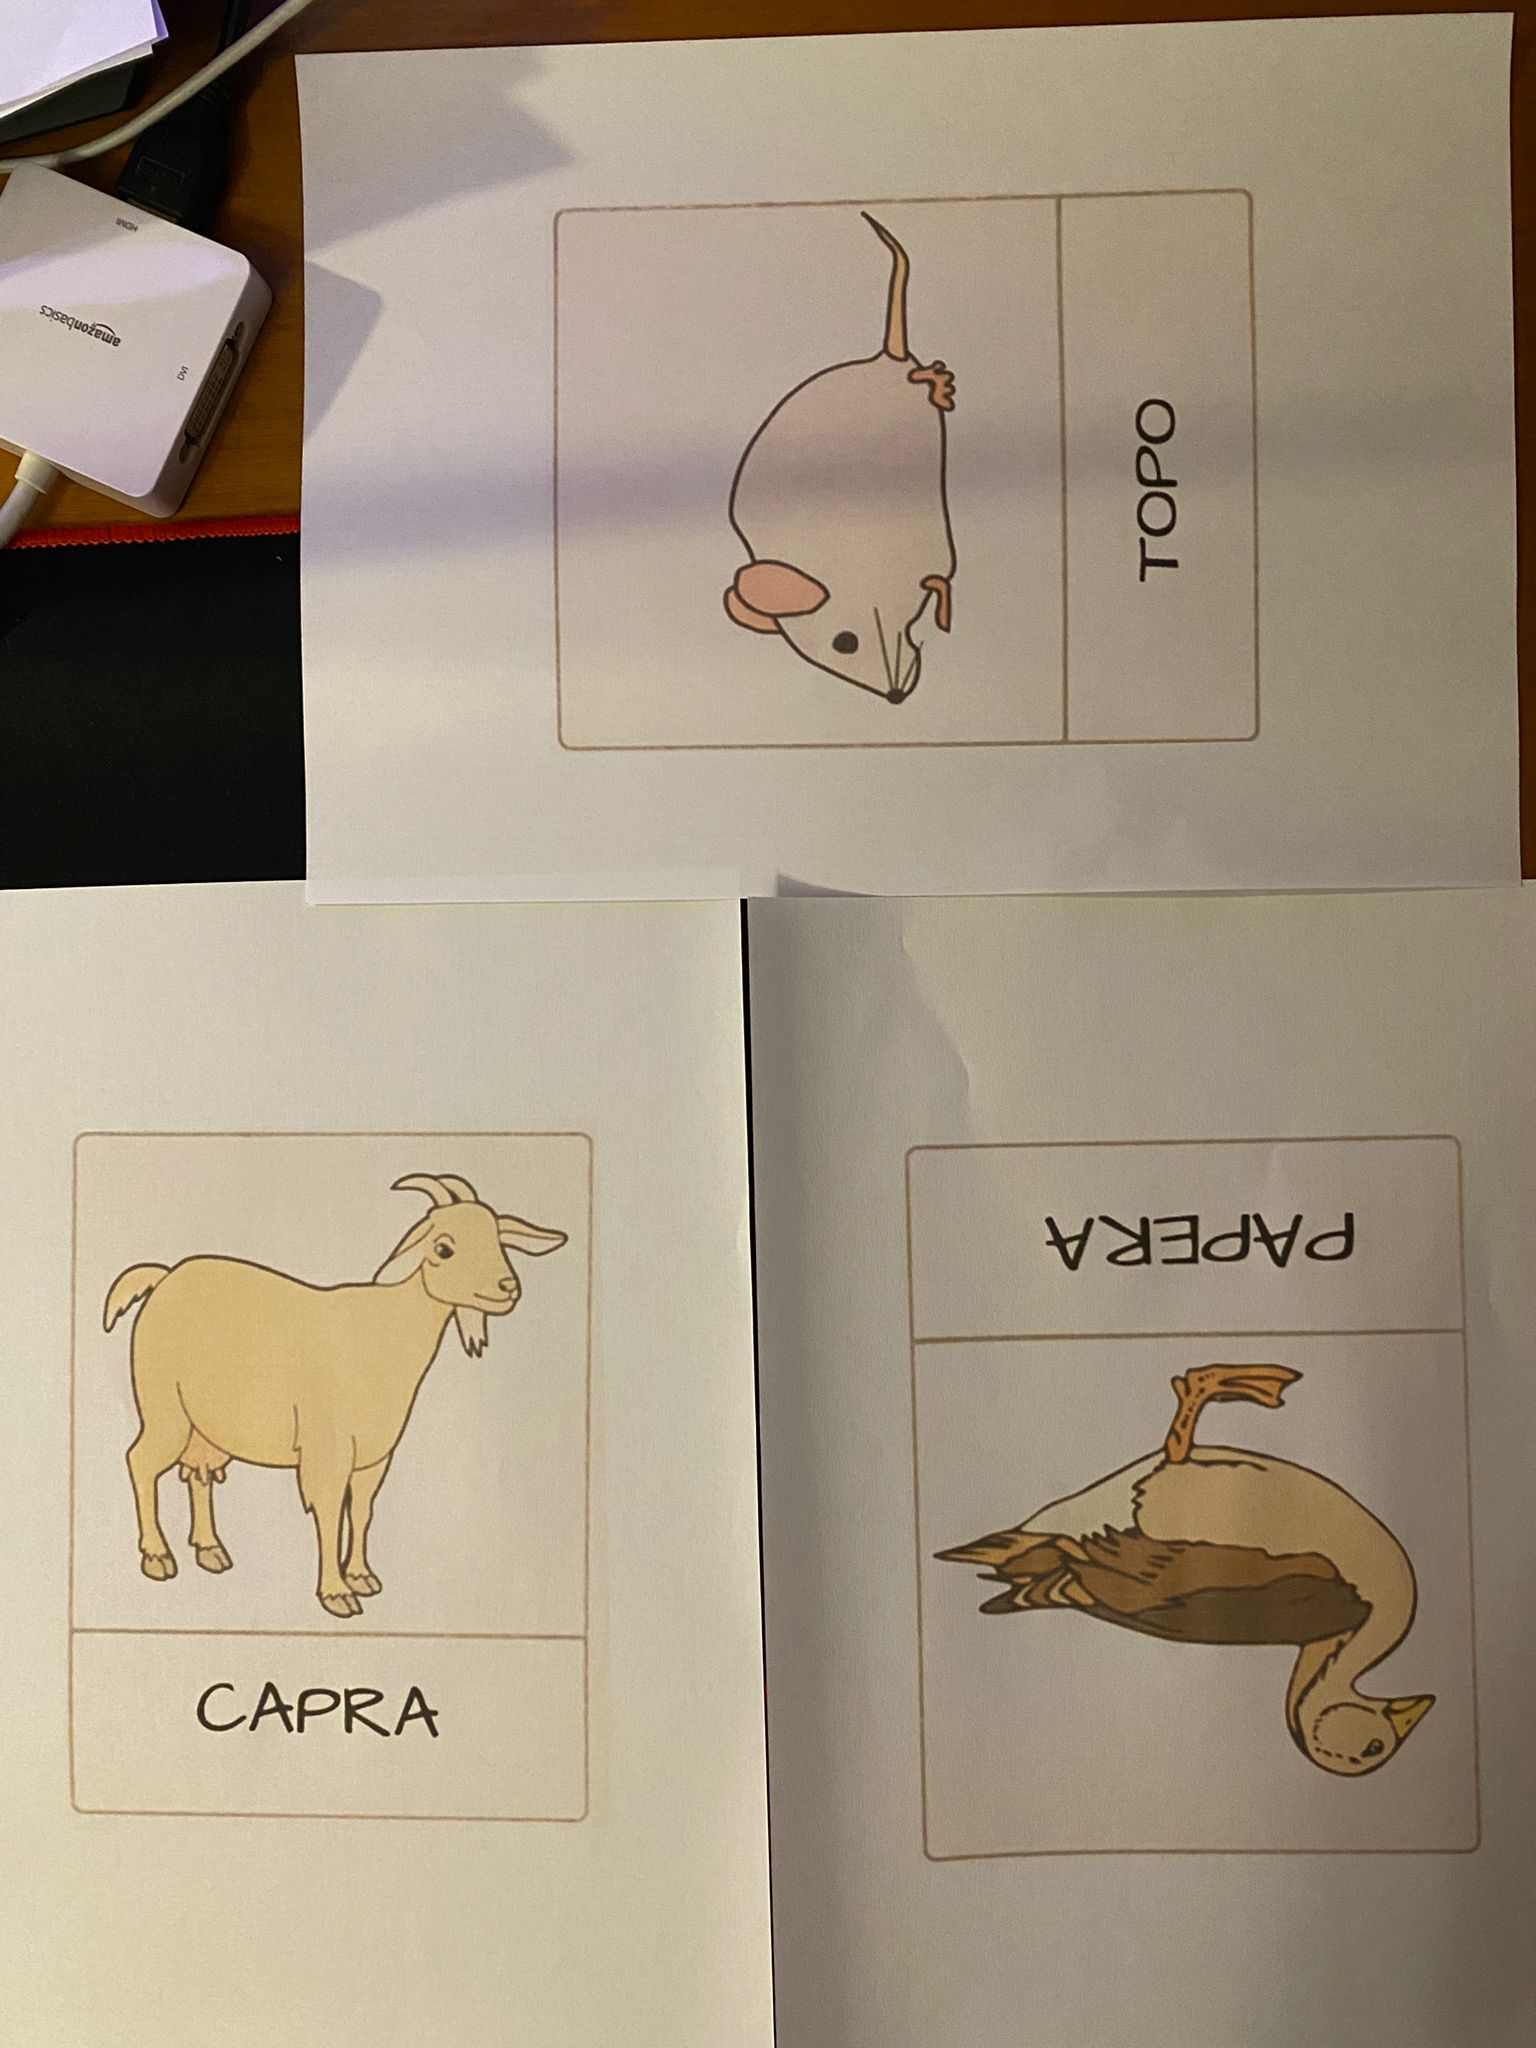capra: (76, 1139, 591, 1824)
papera: (888, 1170, 1484, 1853)
topo: (561, 234, 1265, 753)
